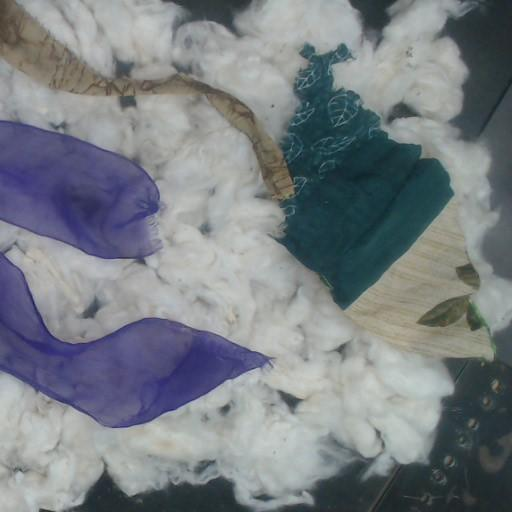cloth: (278, 45, 493, 358), (0, 252, 268, 427), (0, 121, 159, 258), (0, 122, 159, 257)
conveyor belt: (314, 323, 511, 511), (443, 0, 511, 279), (76, 473, 247, 511), (174, 0, 249, 31), (351, 0, 394, 38)
cotton: (0, 61, 453, 511), (20, 0, 511, 331)
